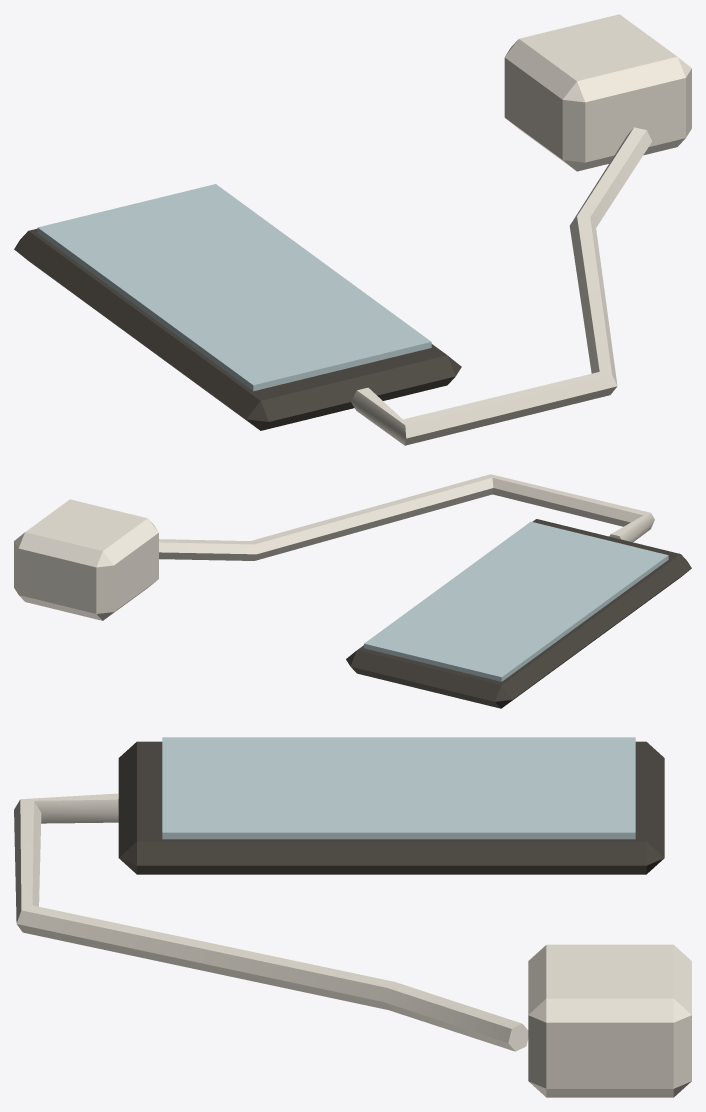
Rendered from phone_charger_on_desk.glb.
The picture shows the model from 3 angles, top to bottom: view 1: azimuth 30°, elevation 25°; view 2: azimuth 150°, elevation 25°; view 3: azimuth 270°, elevation 25°; orthographic projection. The views are drawn at different scales.
Parts seen in each view (by area): view 1: phone_charger_on_desk; view 2: phone_charger_on_desk; view 3: phone_charger_on_desk.
Boxes of the visible parts, x1,y1,x2,y2 form: phone_charger_on_desk: [14, 14, 691, 445]; phone_charger_on_desk: [14, 474, 691, 708]; phone_charger_on_desk: [14, 737, 691, 1097].
Size of the model in its own units: 0.22 by 0.03 by 0.1863.
